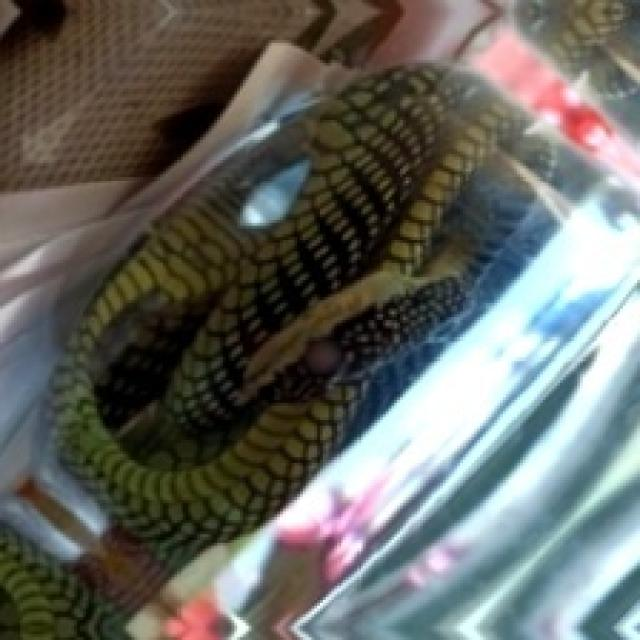paradise tree snake: (0, 0, 594, 637), (0, 66, 523, 637), (37, 311, 157, 560)
